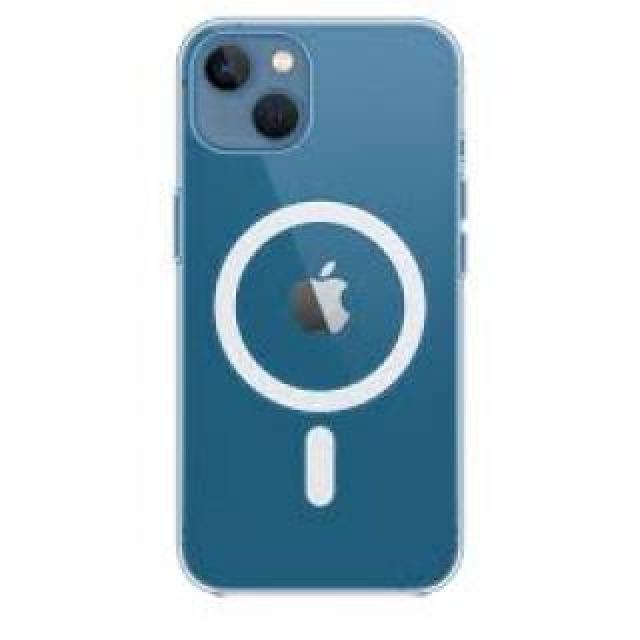smart phone: (148, 0, 487, 605)
